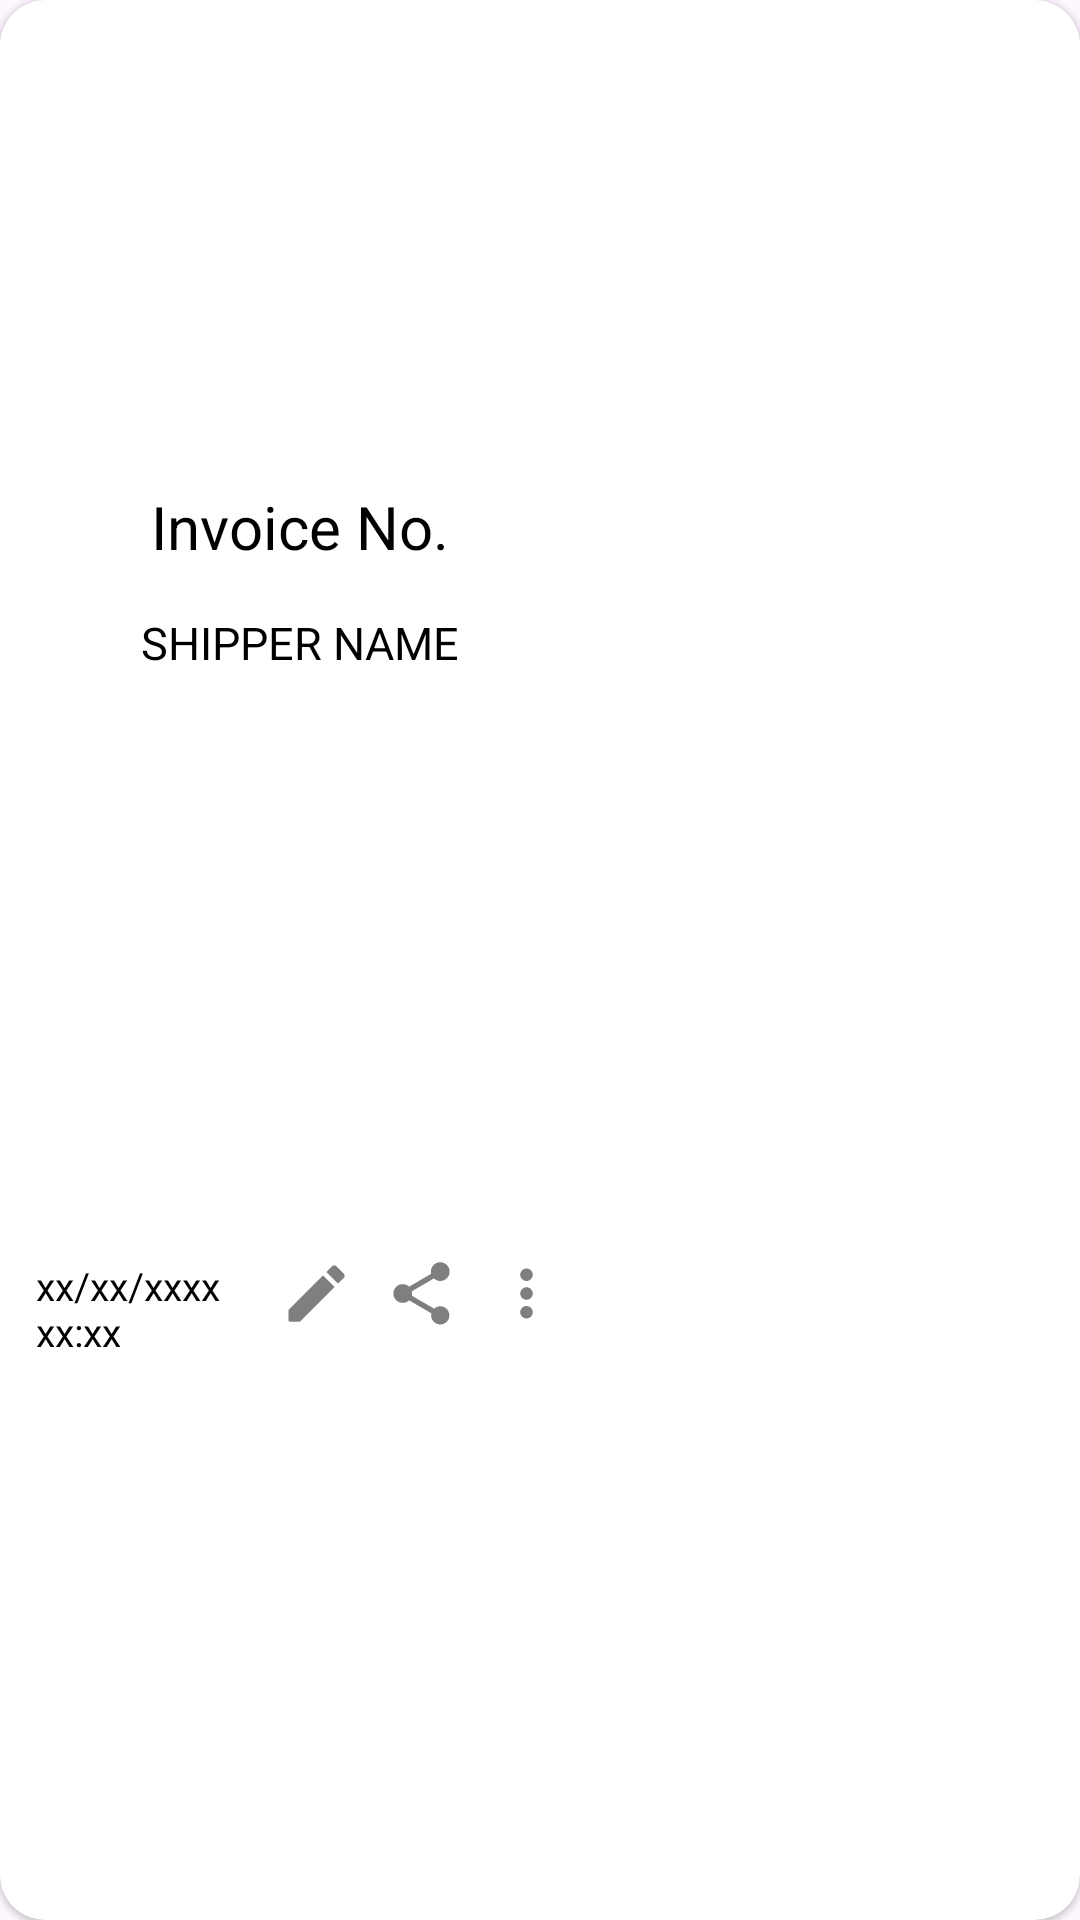

Named icons in this screenshot (1080x1920) and their bounding boxes, bbox(x1, y1, x2, y2):
Edit: bbox(288, 1265, 345, 1322)
More: bbox(520, 1268, 533, 1319)
Share: bbox(393, 1262, 450, 1325)
